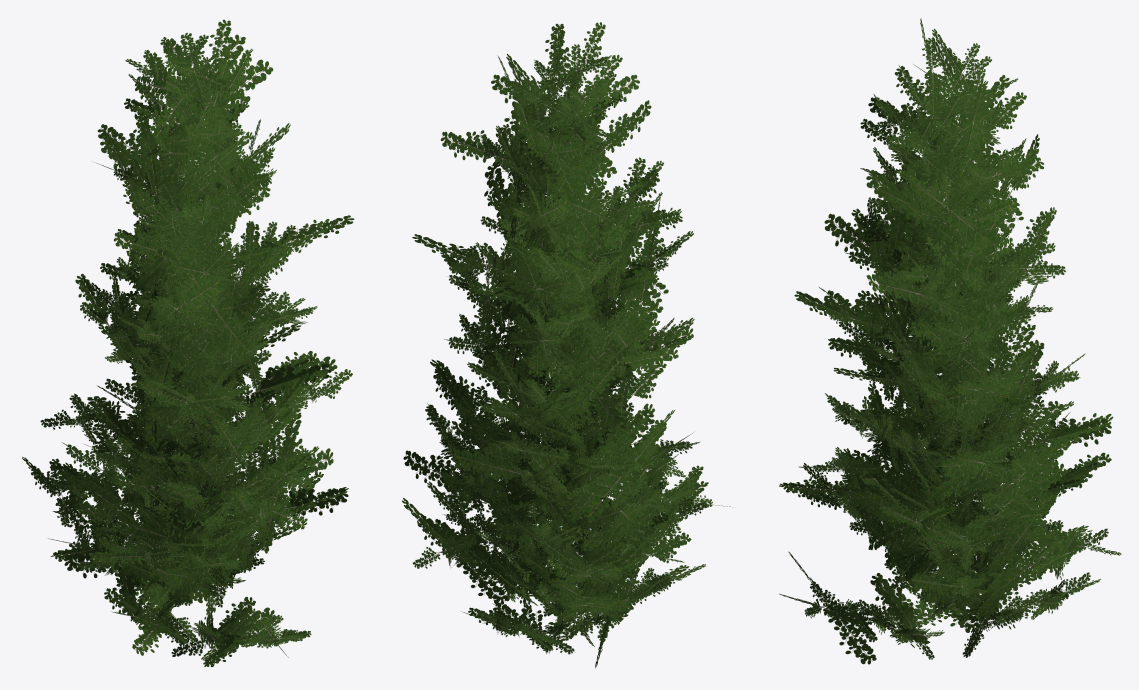
File: alder_leaf.glb
The picture shows the model from 3 angles, left to right: view 1: azimuth 30°, elevation 25°; view 2: azimuth 150°, elevation 25°; view 3: azimuth 270°, elevation 25°; orthographic projection. The views are drawn at different scales.
Parts seen in each view (by area): view 1: alder_a_l1, alder_a, alder_a_l2, alder_b_l2, alder_b, alder_b_l1; view 2: alder_a_l2, alder_a, alder_a_l1, alder_b, alder_b_l1, alder_b_l2; view 3: alder_a_l1, alder_a, alder_a_l2, alder_b_l2, alder_b, alder_b_l1.
Boxes of the visible parts, x1,y1,x2,y2 form: alder_a_l1: (22,19,332,605); alder_a: (30,34,352,592); alder_a_l2: (51,34,354,613); alder_b_l2: (62,184,348,667); alder_b: (48,173,314,660); alder_b_l1: (50,189,323,656); alder_a_l2: (402,23,708,631); alder_a: (412,44,707,616); alder_a_l1: (417,22,697,618); alder_b: (435,195,712,654); alder_b_l1: (427,188,705,651); alder_b_l2: (403,195,732,668); alder_a_l1: (779,18,1111,603); alder_a: (803,38,1121,614); alder_a_l2: (794,28,1113,619); alder_b_l2: (788,190,1073,664); alder_b: (793,199,1093,659); alder_b_l1: (779,204,1100,643).
Bounding box in the file's own units: 6.77 × 13.71 × 6.81.
Materials: 1 (1 with a texture image).
